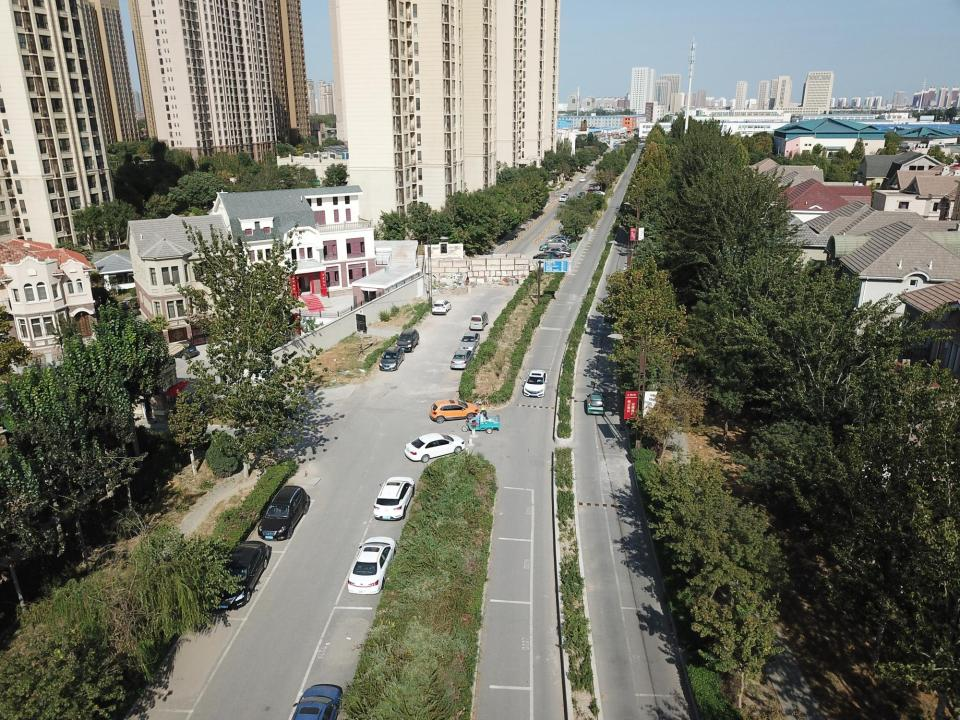car: (214, 539, 272, 613), (347, 533, 398, 595), (259, 485, 310, 542), (288, 683, 344, 720), (373, 474, 415, 522), (402, 432, 466, 461), (428, 398, 484, 424), (522, 368, 548, 398), (166, 338, 199, 360), (379, 346, 405, 372), (395, 328, 420, 352), (450, 349, 474, 370), (584, 392, 604, 417), (458, 332, 480, 352), (432, 299, 451, 315), (544, 247, 572, 257), (547, 241, 572, 252), (532, 253, 563, 260), (547, 234, 571, 243), (539, 243, 560, 250), (594, 189, 606, 195), (558, 195, 569, 201), (578, 191, 586, 198), (588, 188, 596, 194), (588, 184, 595, 190), (580, 176, 586, 182), (614, 144, 622, 147), (563, 193, 569, 196), (636, 143, 642, 146)
van: (468, 310, 490, 330)
